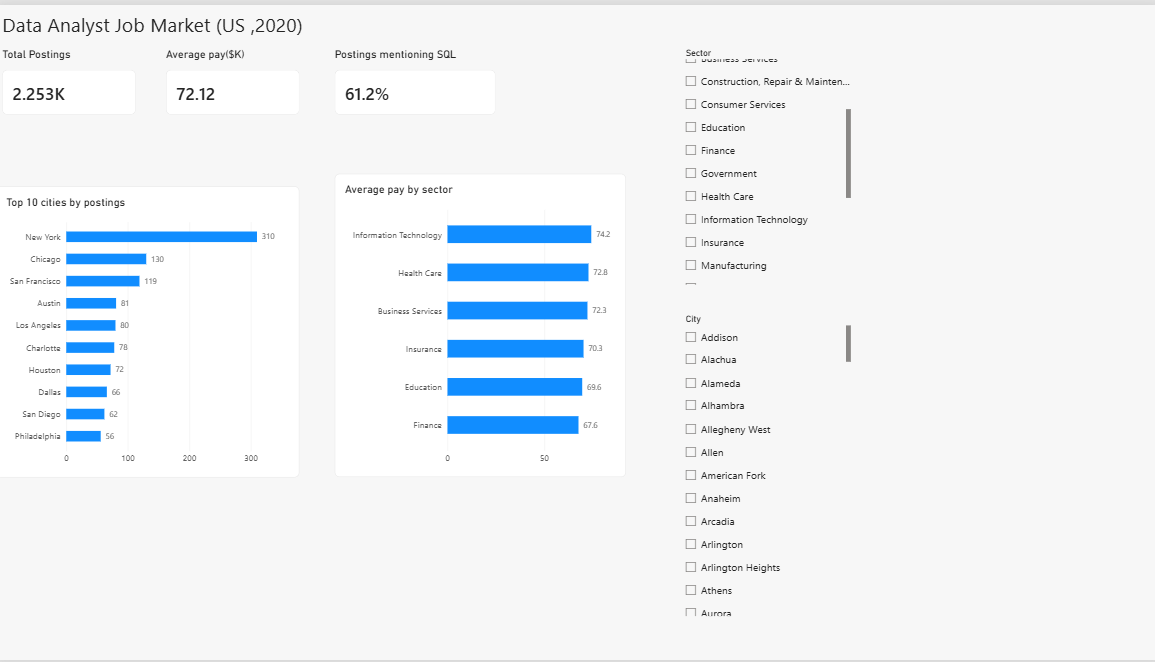

This screenshot's page, from the dashboard's own definition file:
{"tool":"powerbi","page":{"name":"Page 1","canvas":[1920,1080],"ordinal":0},"visuals":[{"type":"clusteredBarChart","title":"Top 10 cities by postings","fields":{"Category":["DataAnalyst_clean.City"],"Y":["CountNonNull(DataAnalyst_clean.City)"]},"box":[61.5,36.2,611.7,490.4],"z":0},{"type":"clusteredBarChart","title":"Average pay by sector","fields":{"Category":["DataAnalyst_clean.Sector"],"Y":["Avg(DataAnalyst_clean.Sal_Mid_K)"]},"box":[714.2,37,934.5,502.2],"z":1},{"type":"cardVisual","fields":{"Data":["CountNonNull(DataAnalyst_clean.Job Title)"]},"box":[61.7,572.2,282,374.6],"z":2},{"type":"cardVisual","fields":{"Data":["Avg(DataAnalyst_clean.Sal_Mid_K)"]},"box":[366.4,572.2,330,375],"z":3},{"type":"cardVisual","fields":{"Data":["Avg(DataAnalyst_clean.sk_SQL)"]},"box":[734.8,572.2,325.2,374.6],"z":4},{"type":"slicer","fields":{"Values":["DataAnalyst_clean.Sector"]},"box":[1198,572,609,375],"z":5},{"type":"slicer","fields":{"Values":["DataAnalyst_clean.City"]},"box":[1706,31,214,502],"z":6}]}

Visuals, with their boxes in screenshot pixels (x1, y1, x2, y2), scaled from the page's 1920x1080 canvas onto the 1155x662 screenshot:
"Top 10 cities by postings" clusteredBarChart: locate(37, 22, 405, 323)
"Average pay by sector" clusteredBarChart: locate(430, 23, 992, 331)
cardVisual - CountNonNull(DataAnalyst_clean.Job Title): locate(37, 351, 207, 580)
cardVisual - Avg(DataAnalyst_clean.Sal_Mid_K): locate(220, 351, 419, 581)
cardVisual - Avg(DataAnalyst_clean.sk_SQL): locate(442, 351, 638, 580)
slicer - DataAnalyst_clean.Sector: locate(721, 351, 1087, 580)
slicer - DataAnalyst_clean.City: locate(1026, 19, 1154, 327)
